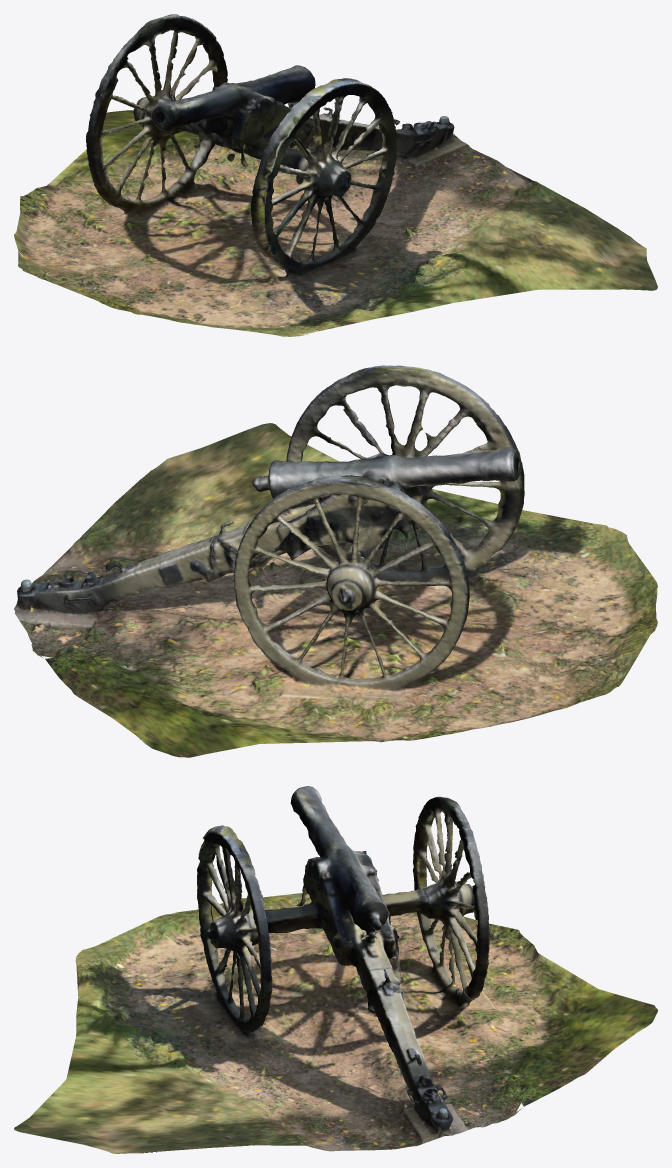
File: cannon-mesh.glb
The picture shows the model from 3 angles, top to bottom: view 1: azimuth 30°, elevation 25°; view 2: azimuth 150°, elevation 25°; view 3: azimuth 270°, elevation 25°; orthographic projection. The views are drawn at different scales.
Visible parts, largest first — view 1: mesh; view 2: mesh; view 3: mesh.
Boxes of the visible parts, box(x1,y1,x2,y2) form: mesh: box(14, 14, 657, 336); mesh: box(14, 365, 657, 757); mesh: box(14, 786, 657, 1153).
Size of the model in its own units: 3.51 by 1.27 by 3.8.
Materials: 1 (1 with a texture image).
